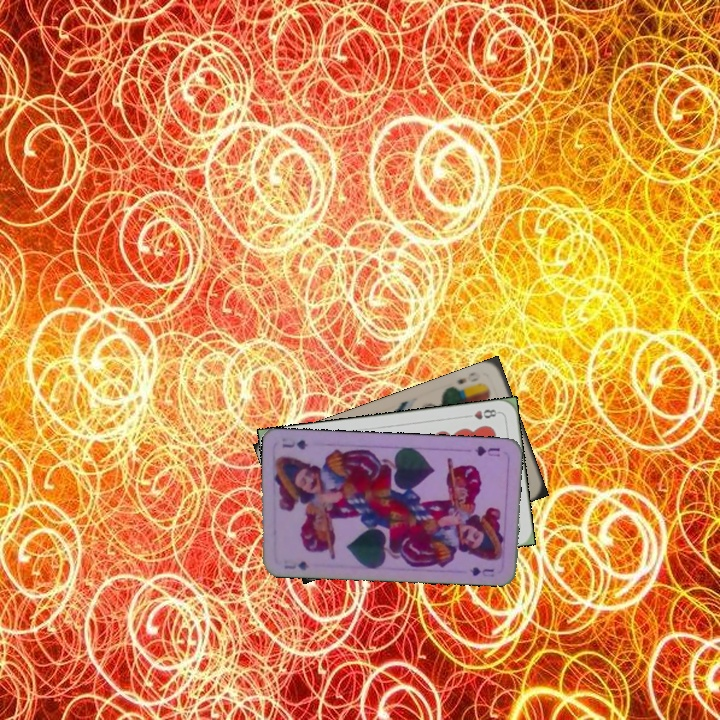EO: (453, 368, 483, 387)
GU: (470, 442, 502, 459), (280, 557, 311, 573)
H8: (461, 405, 502, 422)
